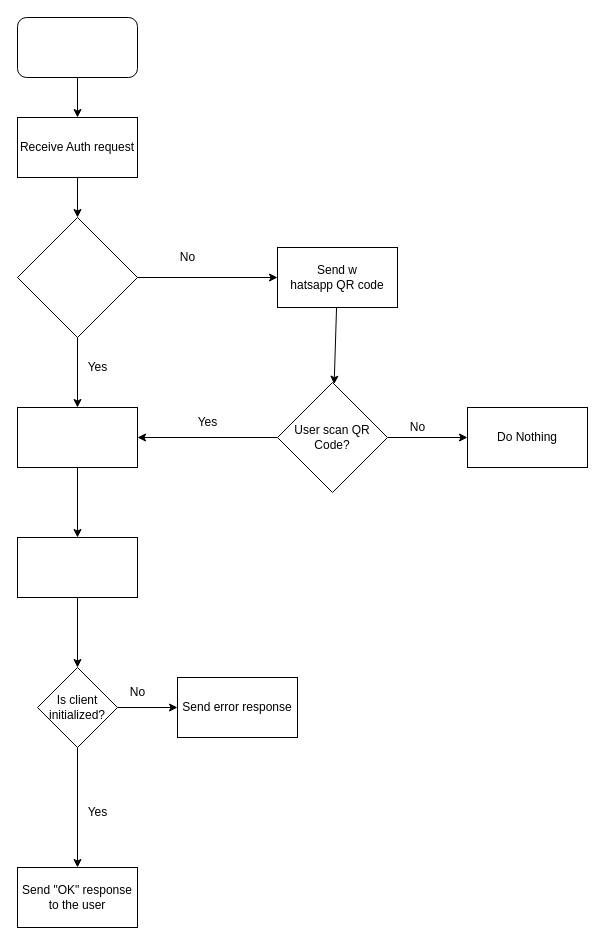
This 605x945 diagram has some shape labels left out. Here are the shapes that lost their labels. From the top down, the box of each, then its label:
(16, 16, 138, 78): Start
(16, 216, 138, 338): Does user have a client on the server?
(16, 406, 138, 468): Store client with id inside object on the server
(16, 536, 138, 598): Initialize Client
